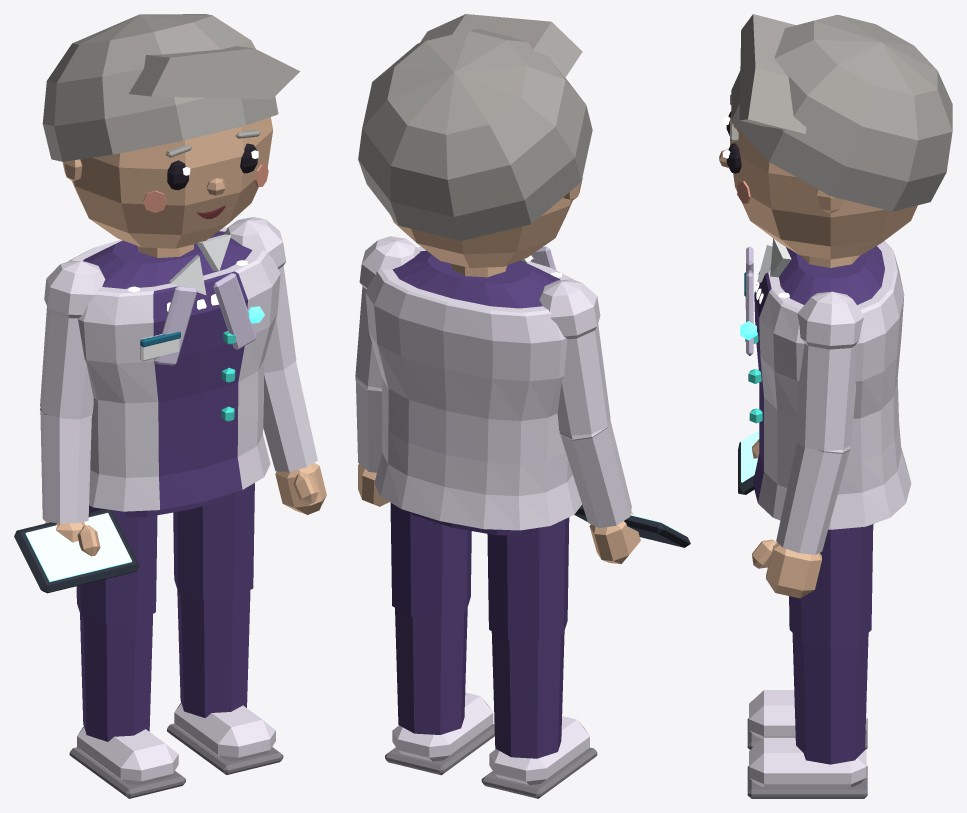
File: man_aby.glb
3 views of the same model, side by side, from view 1: azimuth 30°, elevation 25°; view 2: azimuth 150°, elevation 25°; view 3: azimuth 270°, elevation 25° (orthographic).
Visible parts, largest first — view 1: jacke, haare, bein_l, kopf, bein_r, arm_r, arm_l, gegenstand_terminal, schuh_l, schuh_r, torso, revers (+6 smaller); view 2: jacke, haare, bein_r, bein_l, arm_r, arm_l, torso, kopf, schuh_r, schuh_l, hand_r, gegenstand_terminal (+1 smaller); view 3: haare, jacke, bein_l, arm_l, kopf, schuh_l, torso, hand_l, schuh_r, gesicht, gegenstand_terminal, kragen (+2 smaller).
Part boxes in pixels (x1=…): jacke: x1=68, y1=227, x2=280, y2=511; haare: x1=42, y1=14, x2=299, y2=161; bein_l: x1=173, y1=483, x2=254, y2=717; kopf: x1=62, y1=117, x2=272, y2=248; bein_r: x1=76, y1=505, x2=157, y2=741; arm_r: x1=40, y1=261, x2=105, y2=523; arm_l: x1=225, y1=217, x2=317, y2=471; gegenstand_terminal: x1=14, y1=509, x2=139, y2=593; schuh_l: x1=167, y1=702, x2=283, y2=774; schuh_r: x1=69, y1=726, x2=185, y2=798; torso: x1=83, y1=231, x2=252, y2=288; revers: x1=154, y1=273, x2=256, y2=365; jacke: x1=365, y1=247, x2=581, y2=530; haare: x1=358, y1=14, x2=592, y2=240; bein_r: x1=487, y1=517, x2=569, y2=758; bein_l: x1=390, y1=503, x2=471, y2=734; arm_r: x1=539, y1=279, x2=631, y2=527; arm_l: x1=355, y1=236, x2=420, y2=472; torso: x1=392, y1=250, x2=560, y2=308; kopf: x1=390, y1=177, x2=582, y2=267; schuh_r: x1=481, y1=716, x2=597, y2=798; schuh_l: x1=385, y1=692, x2=494, y2=775; hand_r: x1=589, y1=511, x2=640, y2=563; gegenstand_terminal: x1=574, y1=504, x2=690, y2=547; haare: x1=731, y1=14, x2=952, y2=211; jacke: x1=753, y1=240, x2=911, y2=529; bein_l: x1=789, y1=525, x2=873, y2=764; arm_l: x1=776, y1=291, x2=864, y2=554; kopf: x1=730, y1=114, x2=917, y2=259; schuh_l: x1=747, y1=737, x2=867, y2=798; torso: x1=779, y1=246, x2=884, y2=304; hand_l: x1=752, y1=539, x2=821, y2=598; schuh_r: x1=747, y1=690, x2=867, y2=749; gesicht: x1=719, y1=94, x2=750, y2=203; gegenstand_terminal: x1=738, y1=430, x2=759, y2=494; kragen: x1=757, y1=238, x2=791, y2=282.
Size of the model in its own units: 0.012 by 0.0276 by 0.00798.
